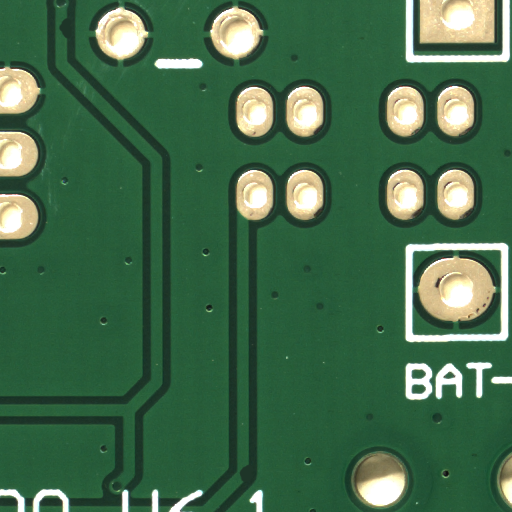Mouse_bite: (246, 474, 259, 492), (63, 28, 73, 49)
